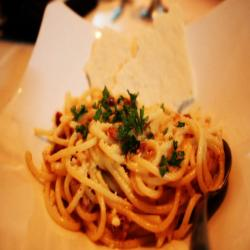bolonese_pasta: (25, 97, 222, 245)
